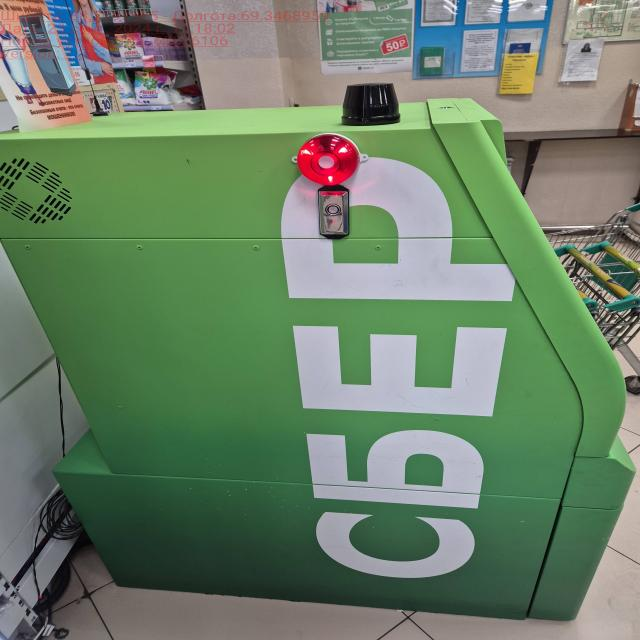bank: (0, 99, 640, 622)
